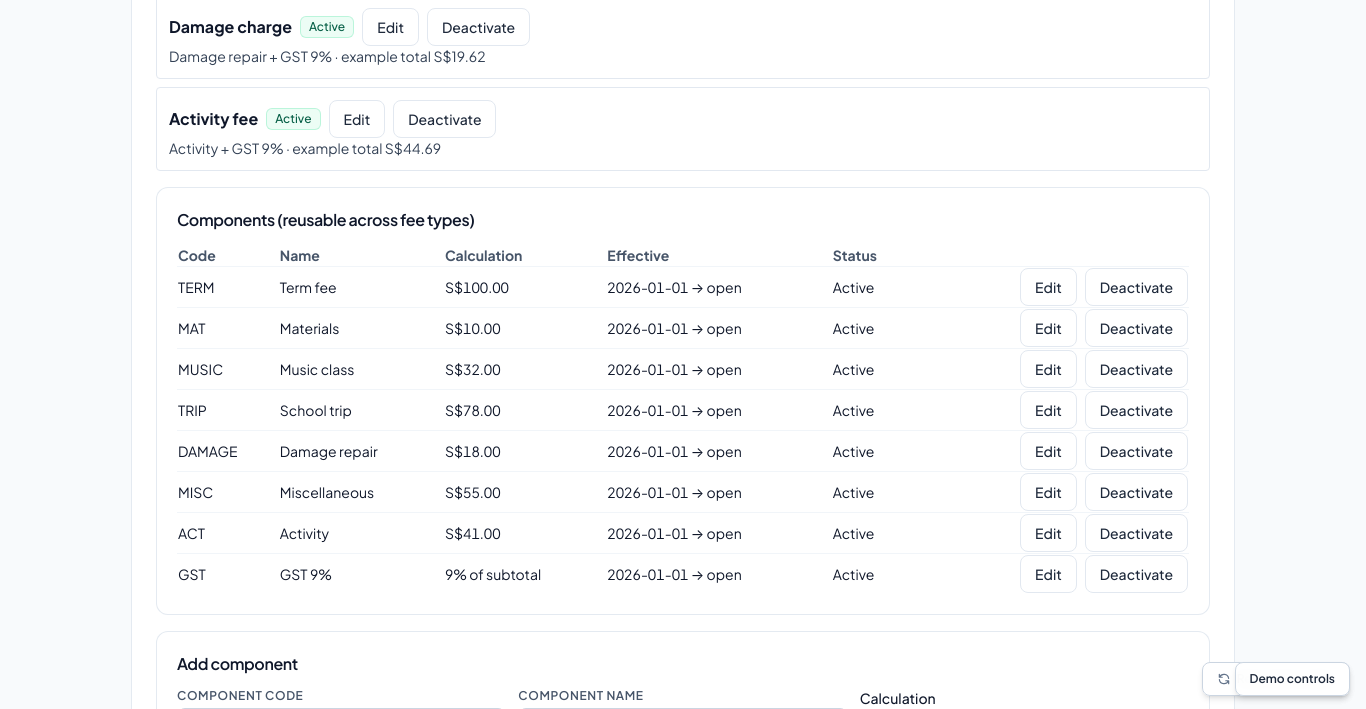
Test: fee configuration edit flows › HQ edits a component amount
(page scrolled)
Click the button with aria-label "edit component materials".
click(1048, 328)  # box left=1020, top=309, right=1077, bottom=347
(page scrolled)
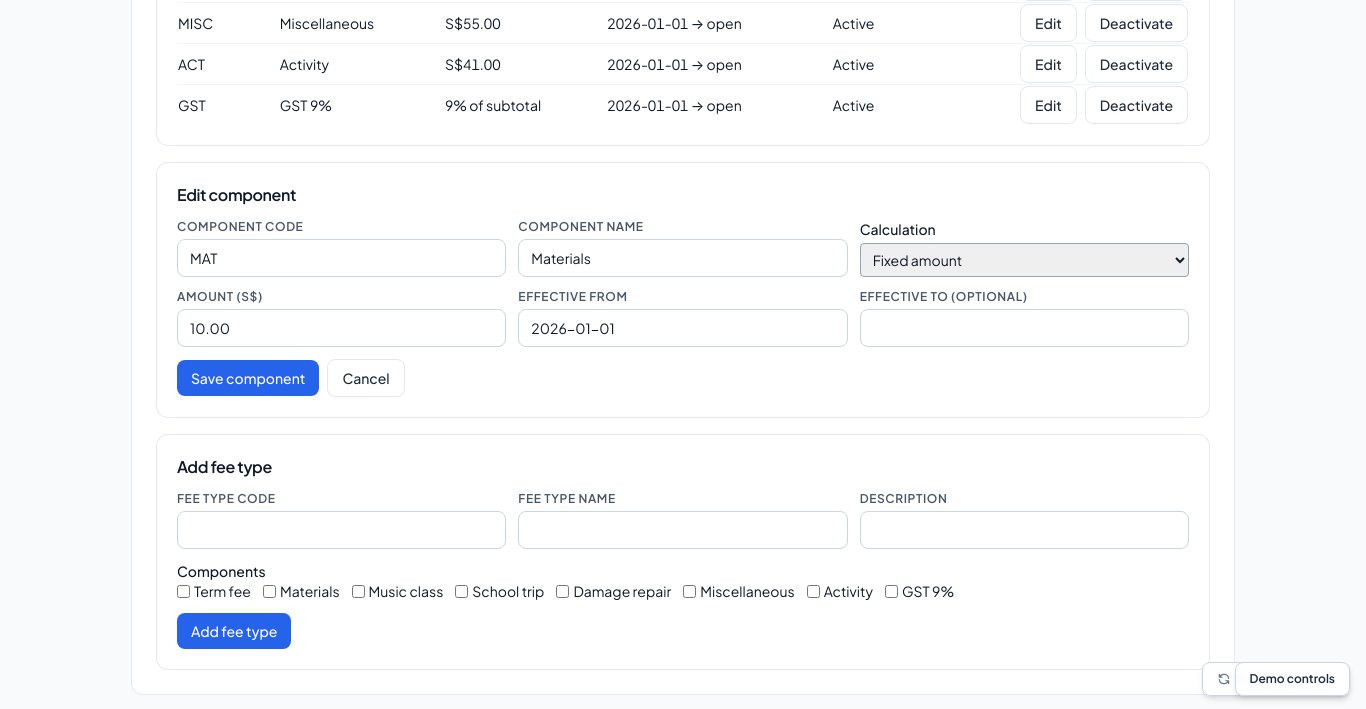
Now the field labelled "Amount (S$)" holds "10.00"
Replace the text in the field labelled "Amount (S$)" with "12" at (342, 328), box left=177, top=309, right=506, bottom=347
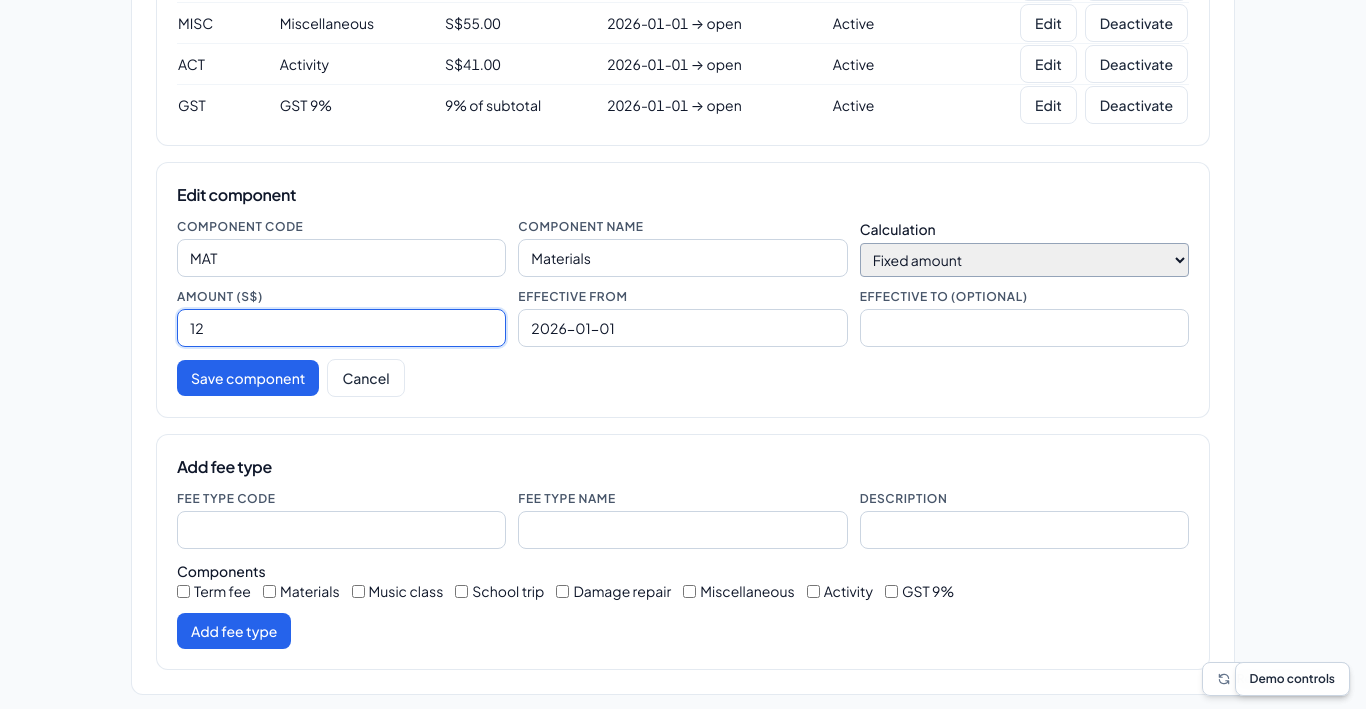
Click the button "Save component".
click(248, 378)  # box left=177, top=360, right=319, bottom=396
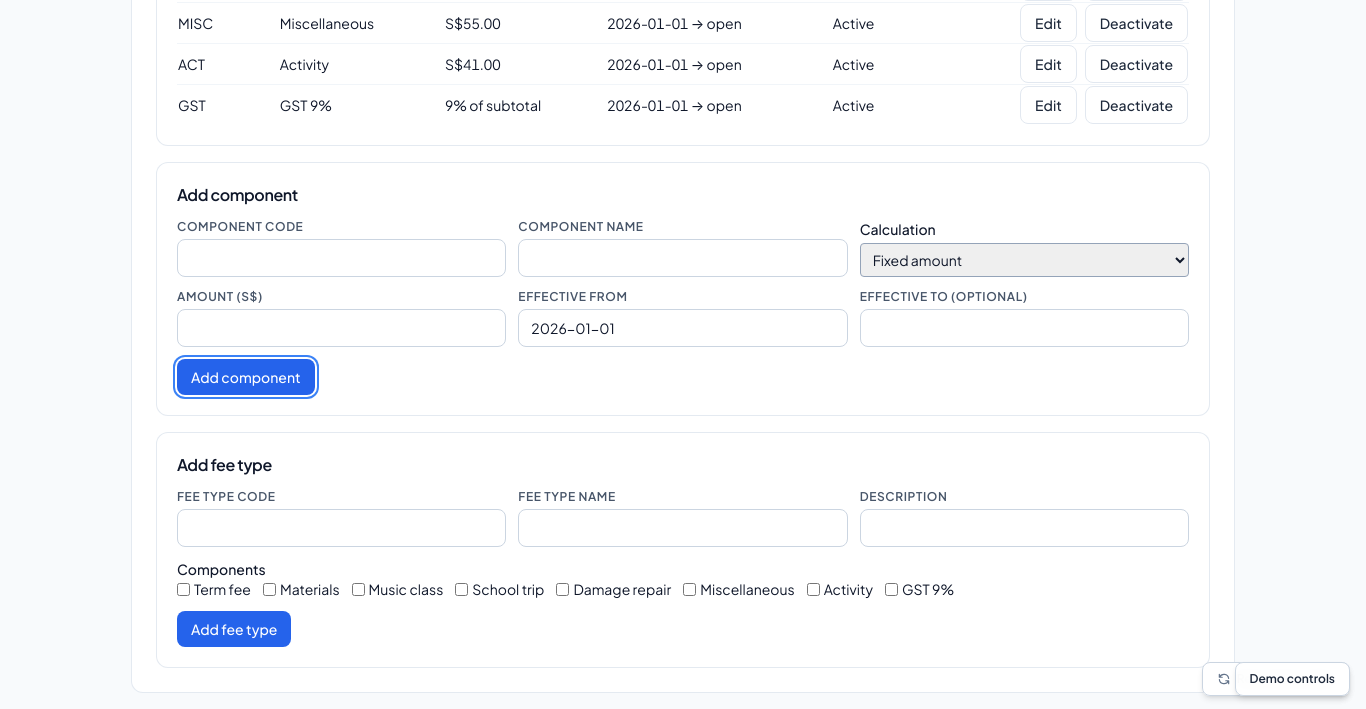
Now the button "Add component" is shown, box left=177, top=359, right=315, bottom=395
